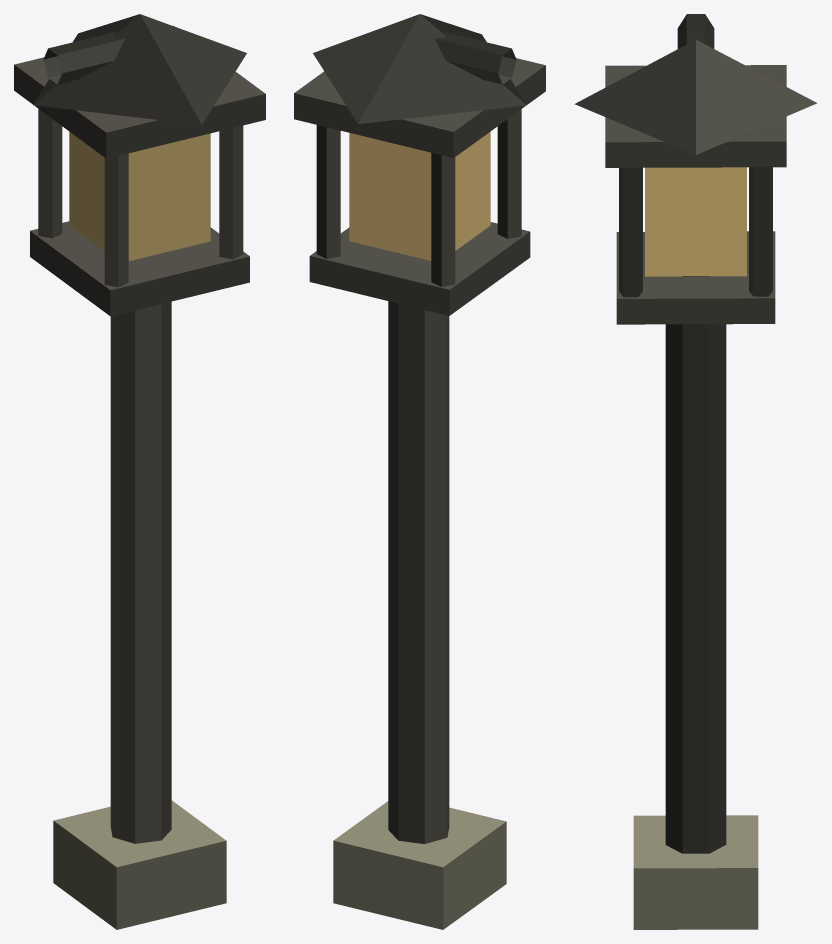
The picture shows the model from 3 angles, left to right: view 1: azimuth 30°, elevation 25°; view 2: azimuth 150°, elevation 25°; view 3: azimuth 270°, elevation 25°; orthographic projection.
Visible parts, largest first — view 1: e0480686cb6c77127bf752f06413577d68fca411fda30f95602aea439573; view 2: e0480686cb6c77127bf752f06413577d68fca411fda30f95602aea439573; view 3: e0480686cb6c77127bf752f06413577d68fca411fda30f95602aea439573.
Boxes of the visible parts, box(x1,y1,x2,y2) form: e0480686cb6c77127bf752f06413577d68fca411fda30f95602aea439573: box(14, 14, 265, 929); e0480686cb6c77127bf752f06413577d68fca411fda30f95602aea439573: box(294, 14, 545, 929); e0480686cb6c77127bf752f06413577d68fca411fda30f95602aea439573: box(574, 14, 817, 929).
Bounding box in the file's own units: 0.86 × 3.37 × 0.86.
2 materials, 1 textured.
